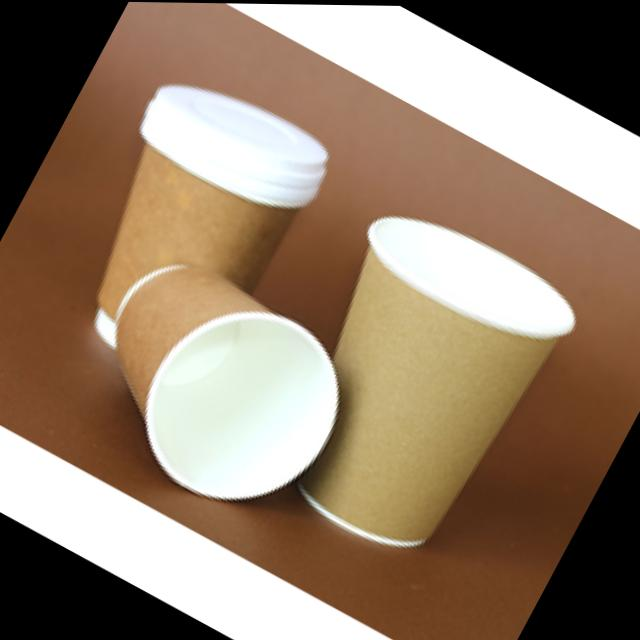paper_cups: (242, 191, 584, 580), (44, 60, 342, 400), (54, 234, 374, 542)
